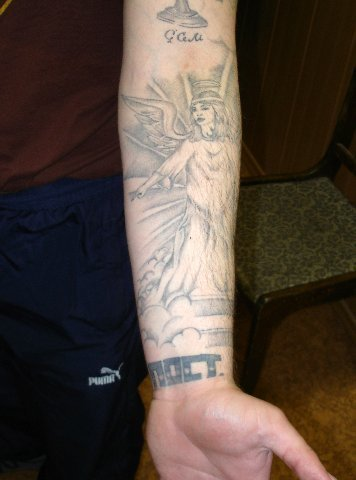tatu1_angel: (123, 59, 252, 346)
tatu3_bukva: (144, 351, 230, 390), (157, 24, 211, 49)
